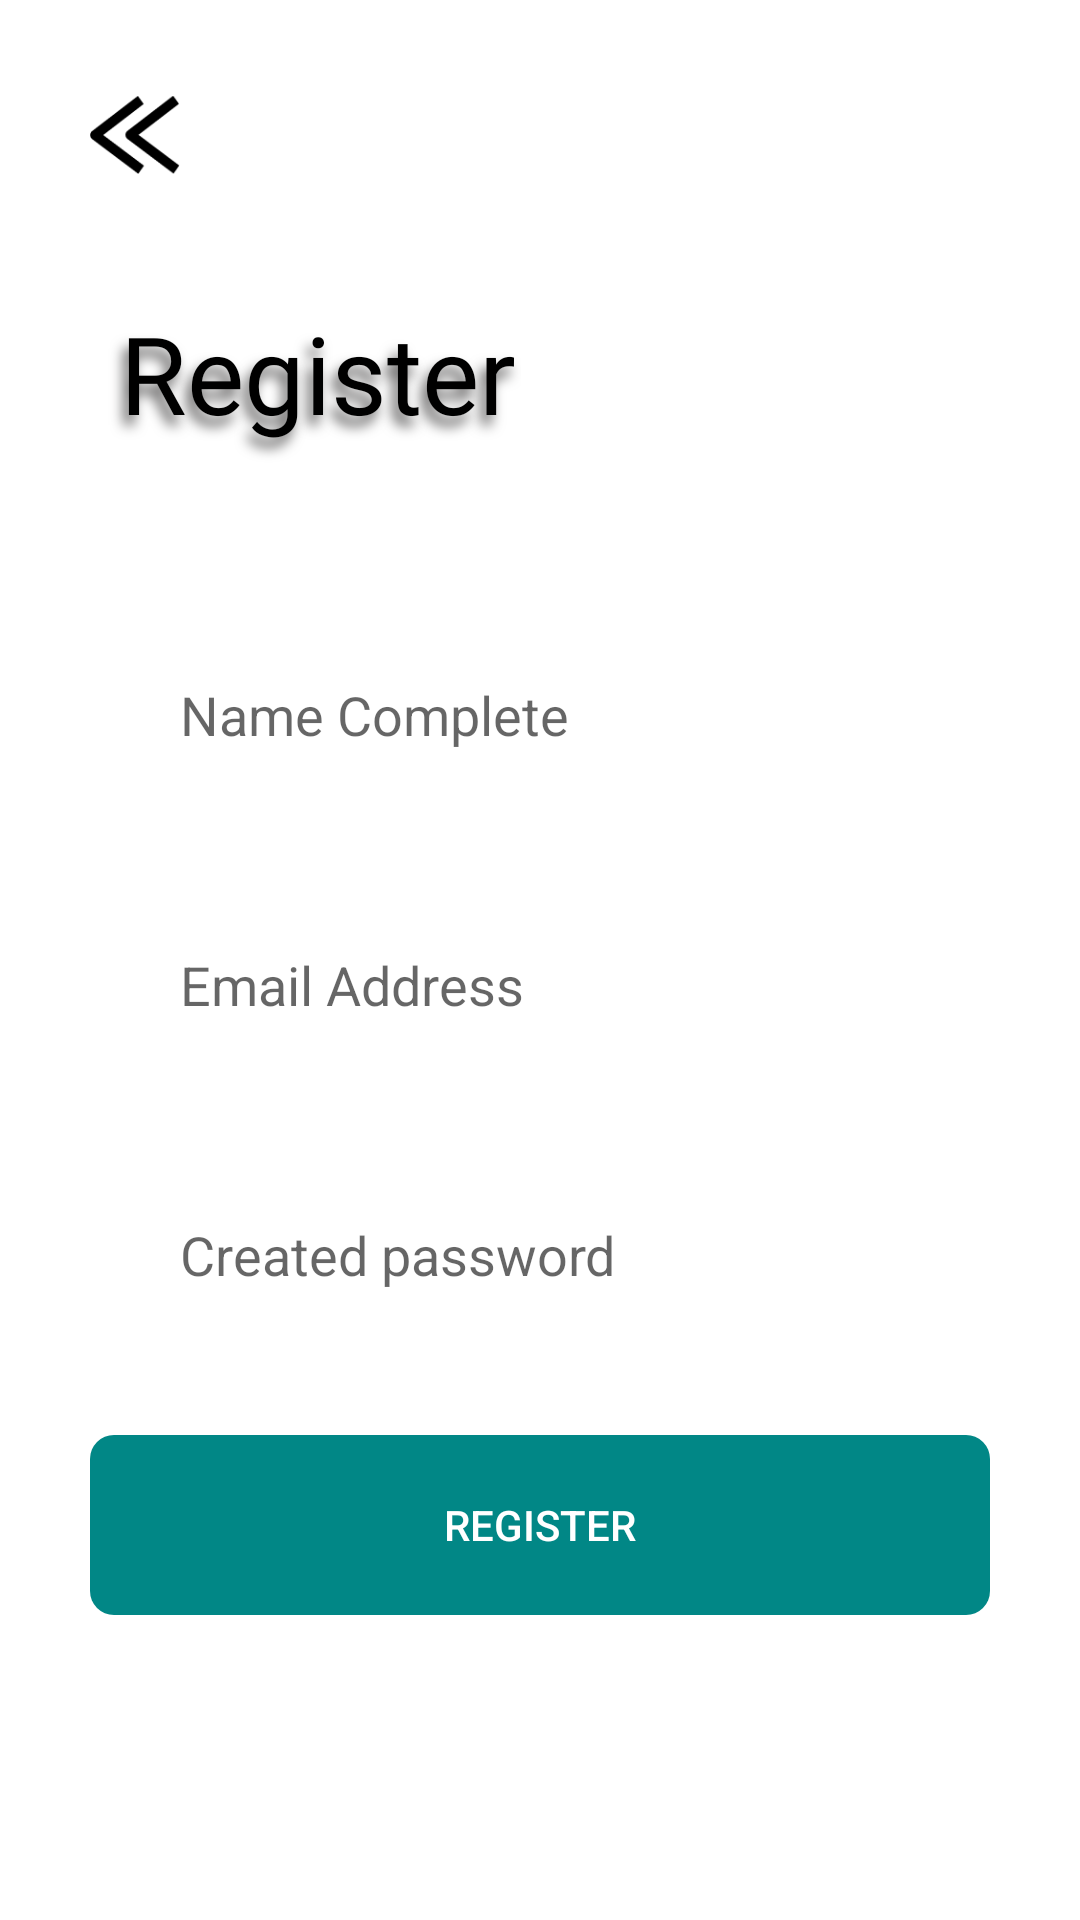

Icon click points for this 1080w x 1920h phone screenshot, format (x,y):
back: (134,135)
